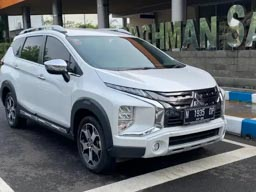plat: (181, 106, 215, 122)
